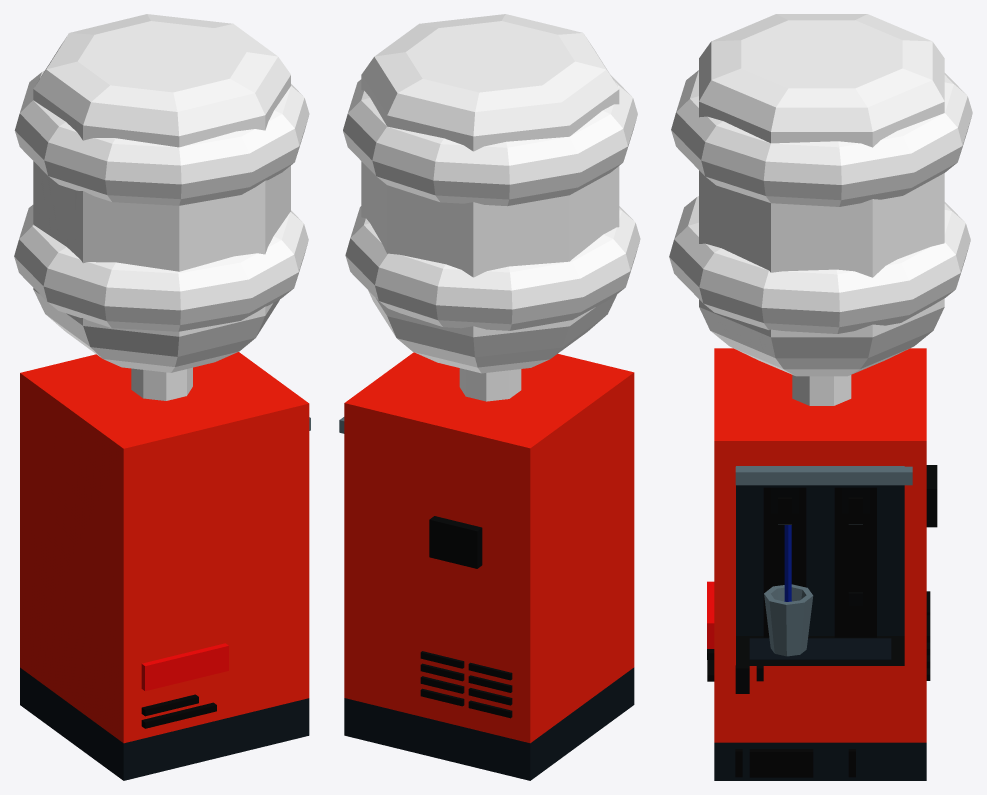
The model's file is _waterdispencer.fbx.
3 views of the same model, side by side, from view 1: azimuth 30°, elevation 25°; view 2: azimuth 150°, elevation 25°; view 3: azimuth 270°, elevation 25° (orthographic). The views are drawn at different scales.
Visible parts, largest first — view 1: 6zon-acGTIu_0_0_0, 6zon-acGTIu_1_0_0; view 2: 6zon-acGTIu_0_0_0, 6zon-acGTIu_1_0_0; view 3: 6zon-acGTIu_1_0_0, 6zon-acGTIu_0_0_0.
Boxes of the visible parts, <box> form: 6zon-acGTIu_0_0_0: <box>20,352,310,780</box>; 6zon-acGTIu_1_0_0: <box>14,14,309,400</box>; 6zon-acGTIu_0_0_0: <box>339,352,634,780</box>; 6zon-acGTIu_1_0_0: <box>343,14,640,401</box>; 6zon-acGTIu_1_0_0: <box>669,14,972,405</box>; 6zon-acGTIu_0_0_0: <box>707,348,937,780</box>.
Size of the model in its own units: 0.0189 by 0.0467 by 0.0189.
